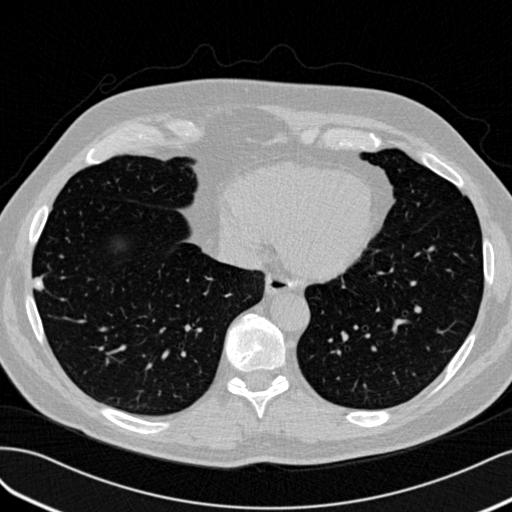nodule: (29, 275, 47, 293)
